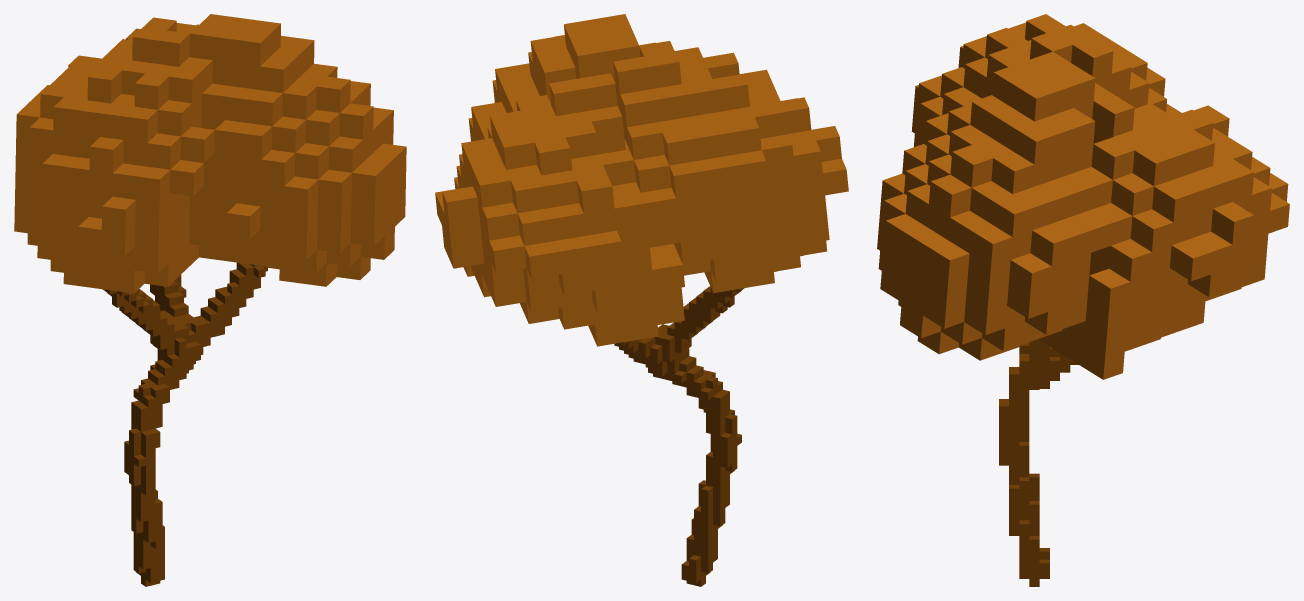
Rendered from Voxeltree_04_orange.glb.
3 renders of one model, left to right at view 1: azimuth 30°, elevation 25°; view 2: azimuth 150°, elevation 25°; view 3: azimuth 270°, elevation 25°, orthographic. The views are drawn at different scales.
Visible parts, largest first — view 1: Voxeltree_04_orange_Wood_0; view 2: Voxeltree_04_orange_Wood_0; view 3: Voxeltree_04_orange_Wood_0.
Boxes of the visible parts, x1=… form: Voxeltree_04_orange_Wood_0: x1=14, y1=14, x2=406, y2=586; Voxeltree_04_orange_Wood_0: x1=435, y1=14, x2=848, y2=586; Voxeltree_04_orange_Wood_0: x1=877, y1=14, x2=1289, y2=586.
Size of the model in its own units: 7.37 by 10.75 by 7.19.
